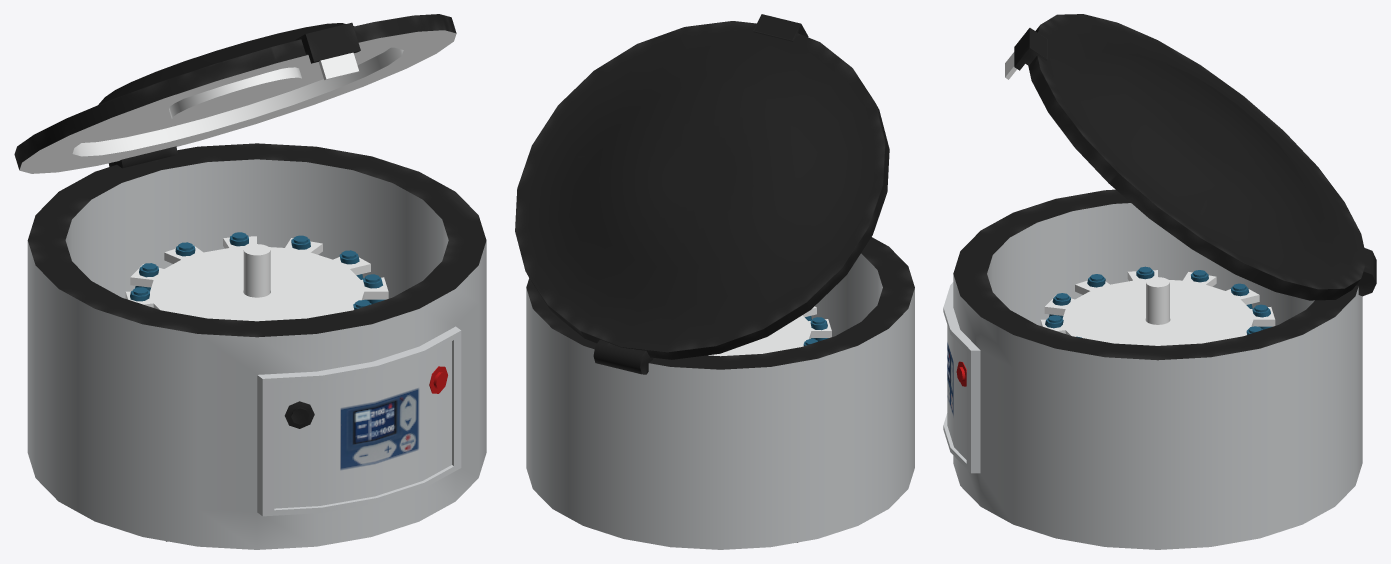
File: Centrifuge .fbx
The picture shows the model from 3 angles, left to right: view 1: azimuth 30°, elevation 25°; view 2: azimuth 150°, elevation 25°; view 3: azimuth 270°, elevation 25°; orthographic projection. The views are drawn at different scales.
Visible parts, largest first — view 1: Centrifuge; view 2: Centrifuge; view 3: Centrifuge.
Part boxes in pixels (x1,y1,x2,y2): Centrifuge: [14, 14, 486, 549]; Centrifuge: [515, 14, 914, 549]; Centrifuge: [943, 14, 1376, 549].
Size of the model in its own units: 43 by 50.38 by 45.51.
